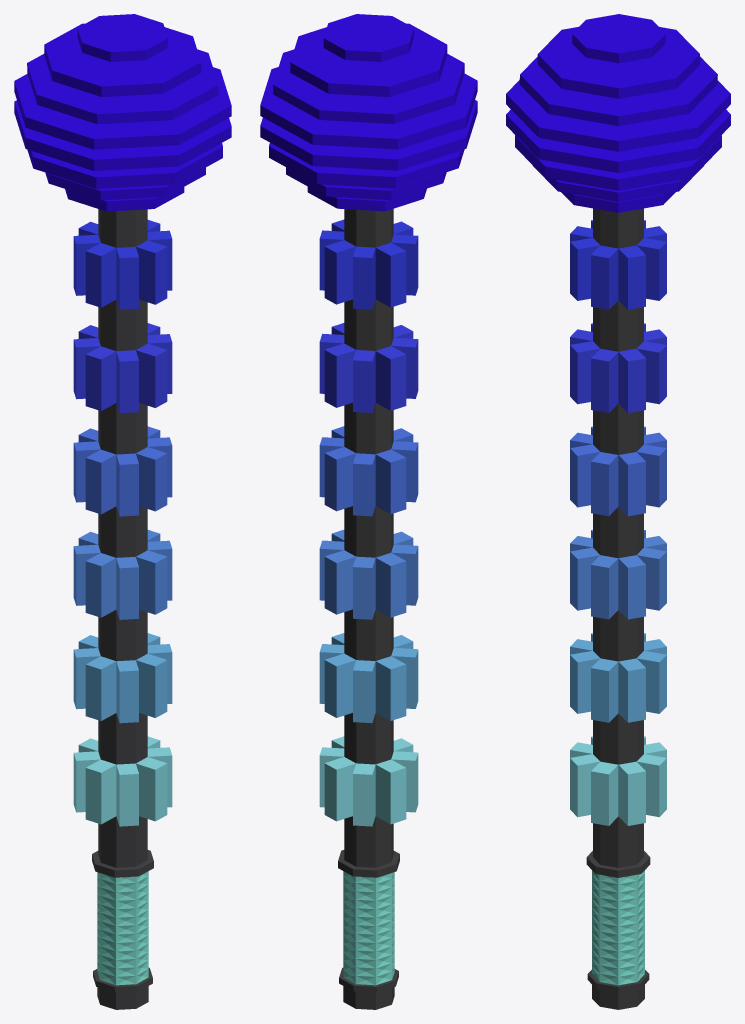
File: MagicBlue.fbx
The picture shows the model from 3 angles, left to right: view 1: azimuth 30°, elevation 25°; view 2: azimuth 150°, elevation 25°; view 3: azimuth 270°, elevation 25°; orthographic projection.
Parts seen in each view (by area): view 1: 球, 柄, 增量1, 增量4, 增量2, 增量5, 增量3, 增量6, 把; view 2: 球, 柄, 增量1, 增量6, 增量3, 增量4, 增量5, 增量2, 把; view 3: 球, 柄, 增量5, 增量1, 增量4, 增量2, 增量6, 增量3, 把.
Boxes of the visible parts, bbox=[...] form: 球: bbox=[14, 14, 231, 211]; 柄: bbox=[92, 209, 153, 1009]; 增量1: bbox=[73, 736, 172, 826]; 增量4: bbox=[73, 426, 172, 516]; 增量2: bbox=[73, 633, 172, 723]; 增量5: bbox=[73, 323, 172, 413]; 增量3: bbox=[73, 530, 172, 619]; 增量6: bbox=[73, 220, 172, 309]; 把: bbox=[97, 871, 148, 985]; 球: bbox=[260, 14, 477, 211]; 柄: bbox=[338, 209, 399, 1009]; 增量1: bbox=[319, 736, 418, 826]; 增量6: bbox=[319, 219, 418, 309]; 增量3: bbox=[319, 529, 418, 619]; 增量4: bbox=[319, 426, 418, 516]; 增量5: bbox=[319, 323, 418, 412]; 增量2: bbox=[319, 633, 418, 722]; 把: bbox=[343, 871, 394, 985]; 球: bbox=[506, 14, 730, 212]; 柄: bbox=[586, 208, 650, 1009]; 增量5: bbox=[570, 323, 666, 412]; 增量1: bbox=[570, 736, 666, 825]; 增量4: bbox=[570, 426, 666, 516]; 增量2: bbox=[570, 633, 666, 722]; 增量6: bbox=[570, 220, 666, 309]; 增量3: bbox=[570, 530, 666, 619]; 把: bbox=[592, 870, 644, 985].
Bounding box in the file's own units: 31.3 × 148 × 31.3.
